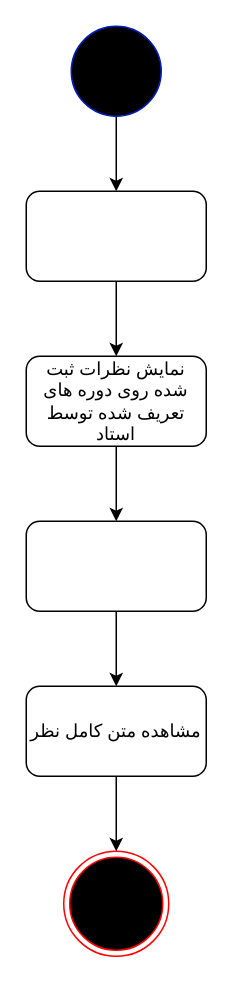
The diagram is 233 pixels wide and 983 high, and some of its shapes have lost their labels. Here are the shapes that lost their labels. From the top down, the box of each, then its label:
(25, 190, 206, 281): زدن روی مشاهده نظرات
(25, 520, 206, 611): کلیک روی یک نظر
